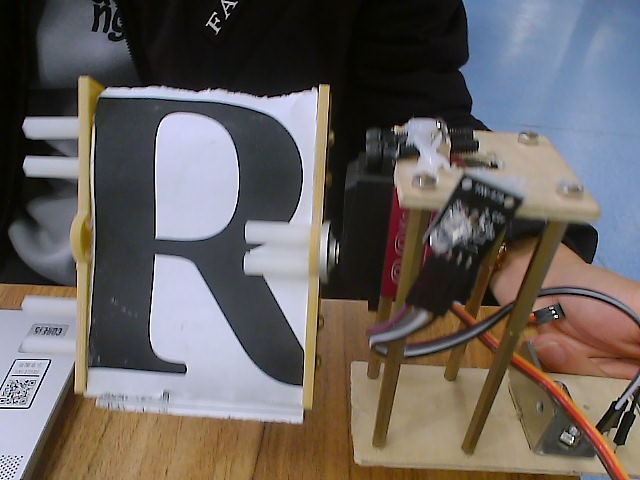R: (5, 64, 365, 457)
